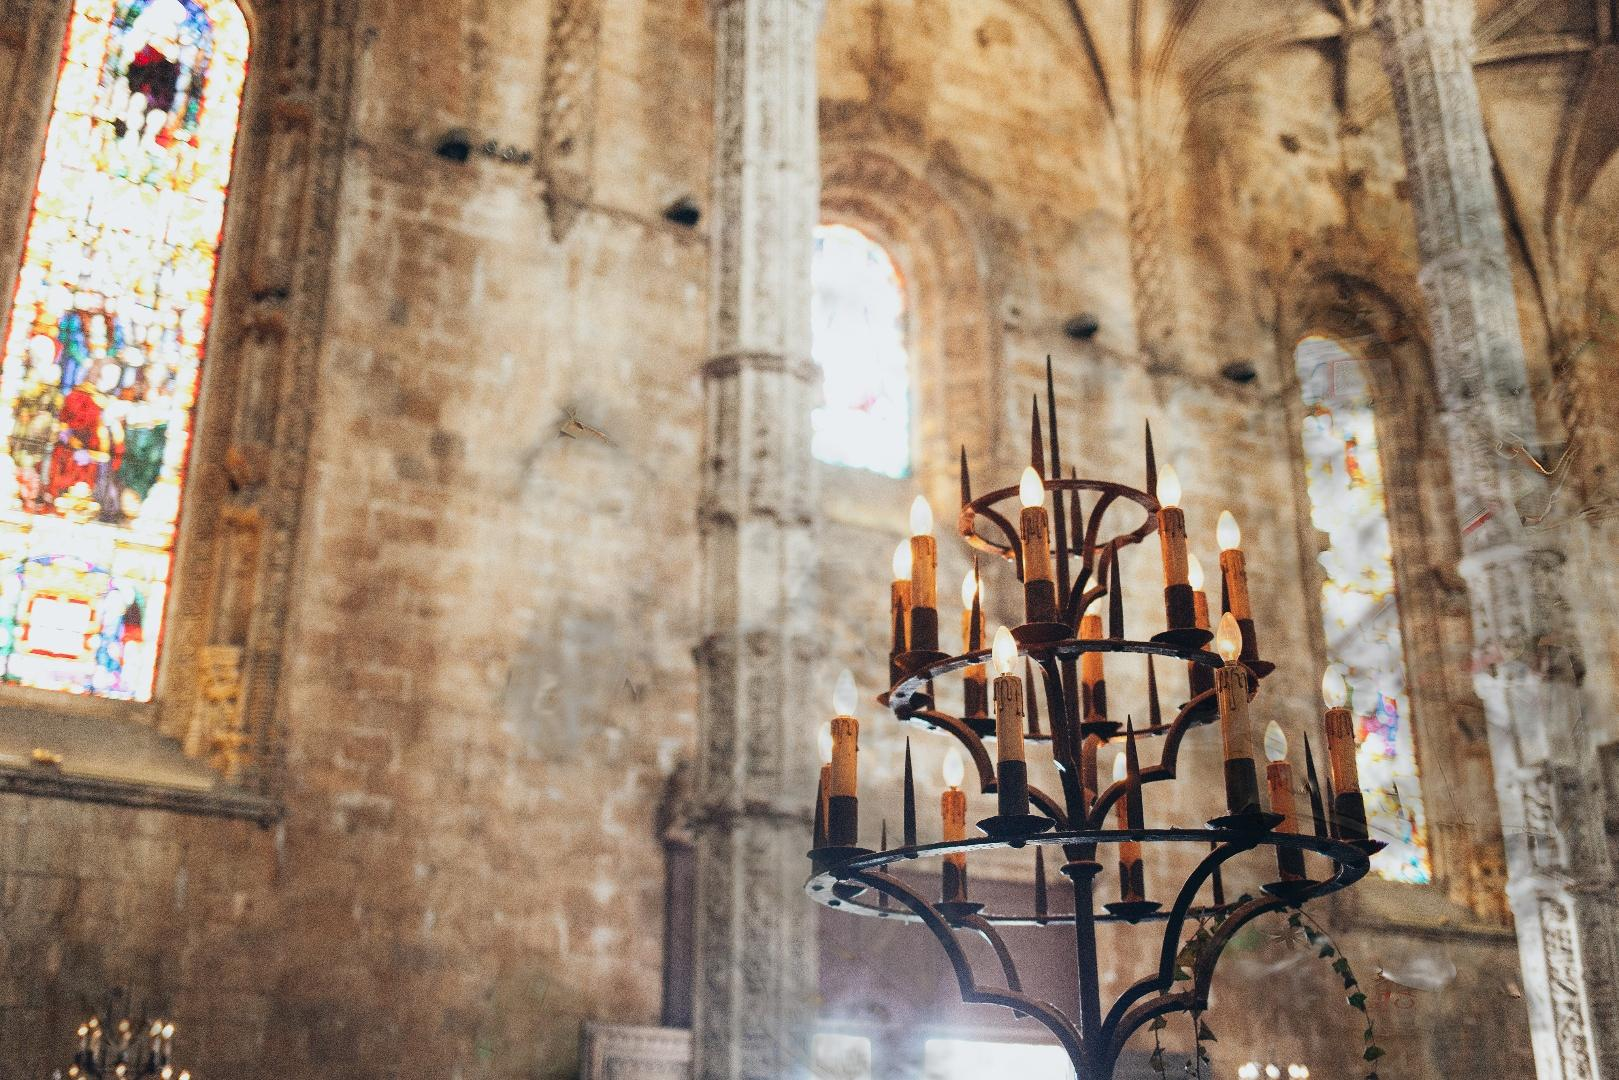trashbox-cardboard: (47, 72, 1619, 1080)
